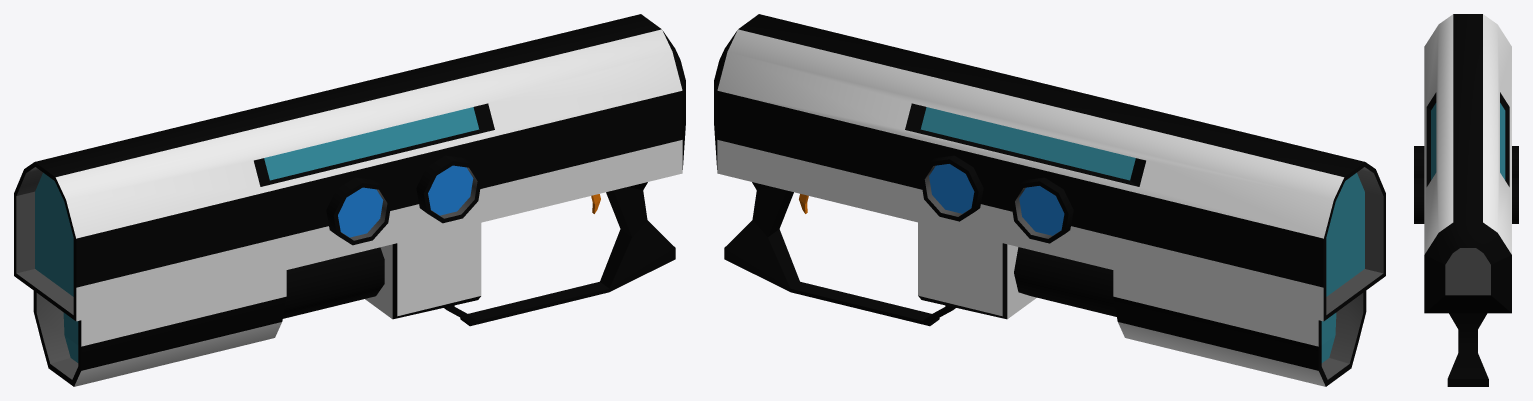
The model's file is UpgradeGun.fbx.
3 renders of one model, left to right at view 1: azimuth 30°, elevation 25°; view 2: azimuth 150°, elevation 25°; view 3: azimuth 270°, elevation 25°, orthographic. The views are drawn at different scales.
Parts seen in each view (by area): view 1: UpgradeGun; view 2: UpgradeGun; view 3: UpgradeGun.
Part boxes in pixels (x1,y1,x2,y2): UpgradeGun: (14,14,685,386); UpgradeGun: (714,14,1385,386); UpgradeGun: (1414,14,1518,386).
Bounding box in the file's own units: 84.57 × 33.08 × 17.48.
